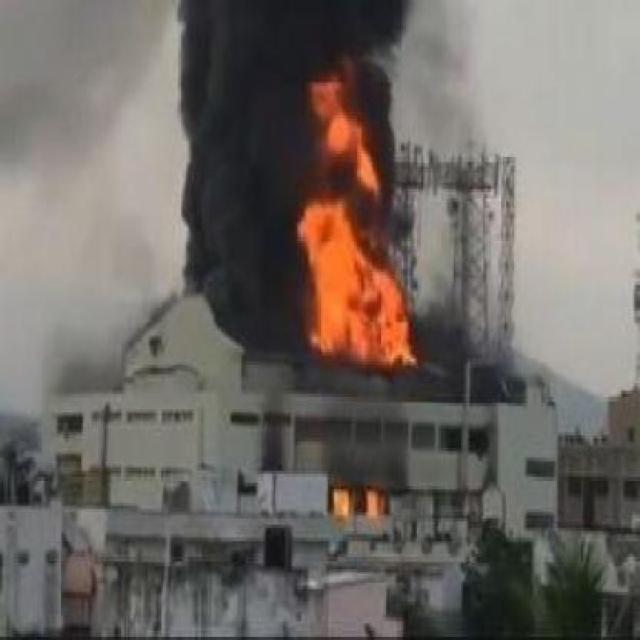Fire: (216, 101, 522, 453)
